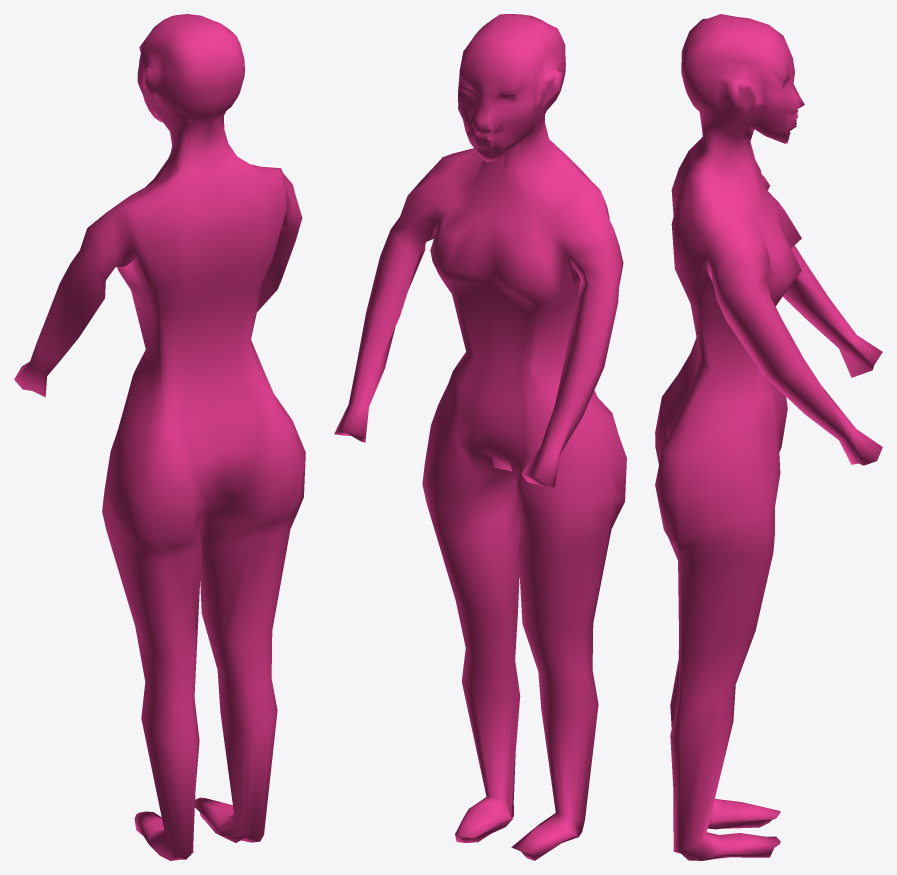
3 renders of one model, left to right at view 1: azimuth 30°, elevation 25°; view 2: azimuth 150°, elevation 25°; view 3: azimuth 270°, elevation 25°, orthographic.
Parts seen in each view (by area): view 1: Roundcube.001; view 2: Roundcube.001; view 3: Roundcube.001.
Boxes of the visible parts, <box> form: Roundcube.001: <box>14,14,305,860</box>; Roundcube.001: <box>334,14,626,860</box>; Roundcube.001: <box>655,14,882,860</box>.
Bounding box in the file's own units: 2.58 × 8.77 × 2.21.
